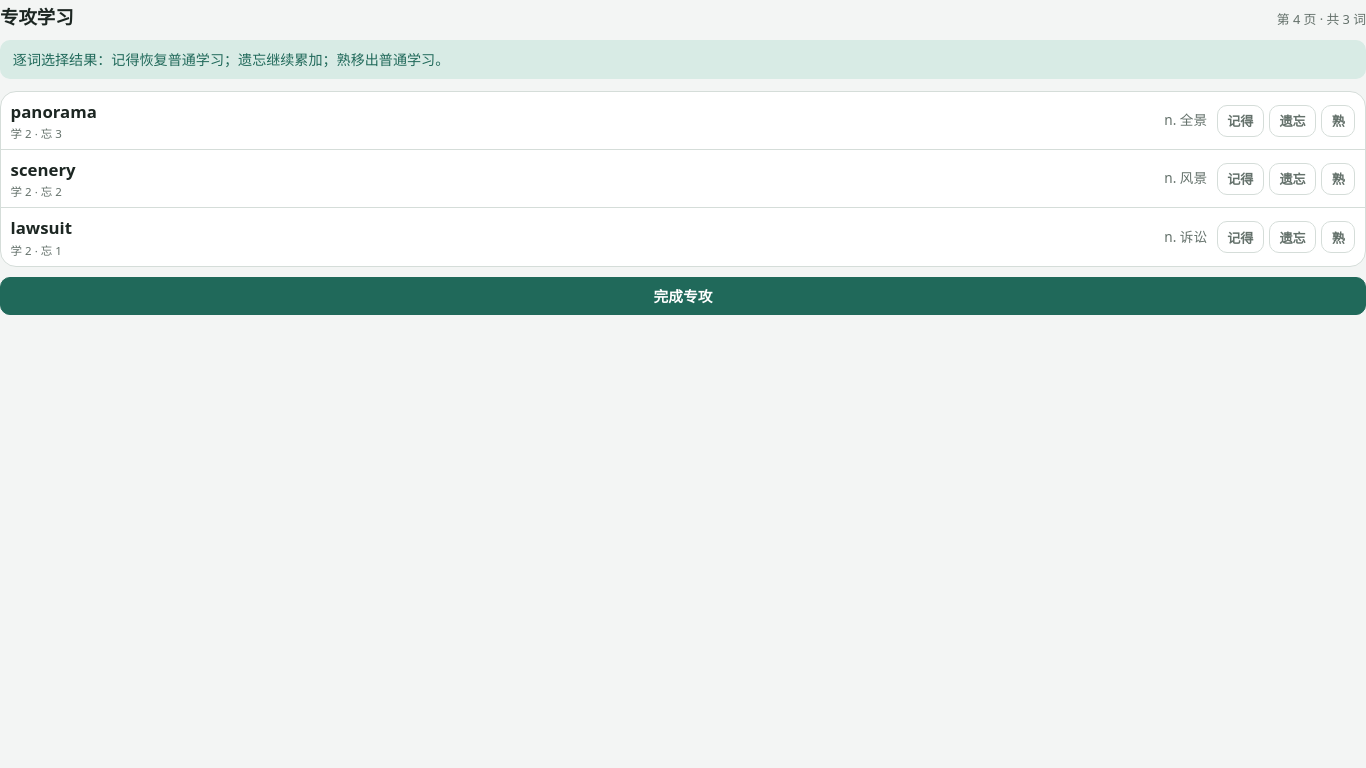
Scenario: 专攻学习页 › 未逐词选择完成结果前不能提交
The width and height of the screenshot is (1366, 768).
What coordinates should you click on to do the following:
click the button "记得" in the row of "panorama"
I would click on:
 (1240, 121)
Its box is [1217, 105, 1264, 137].
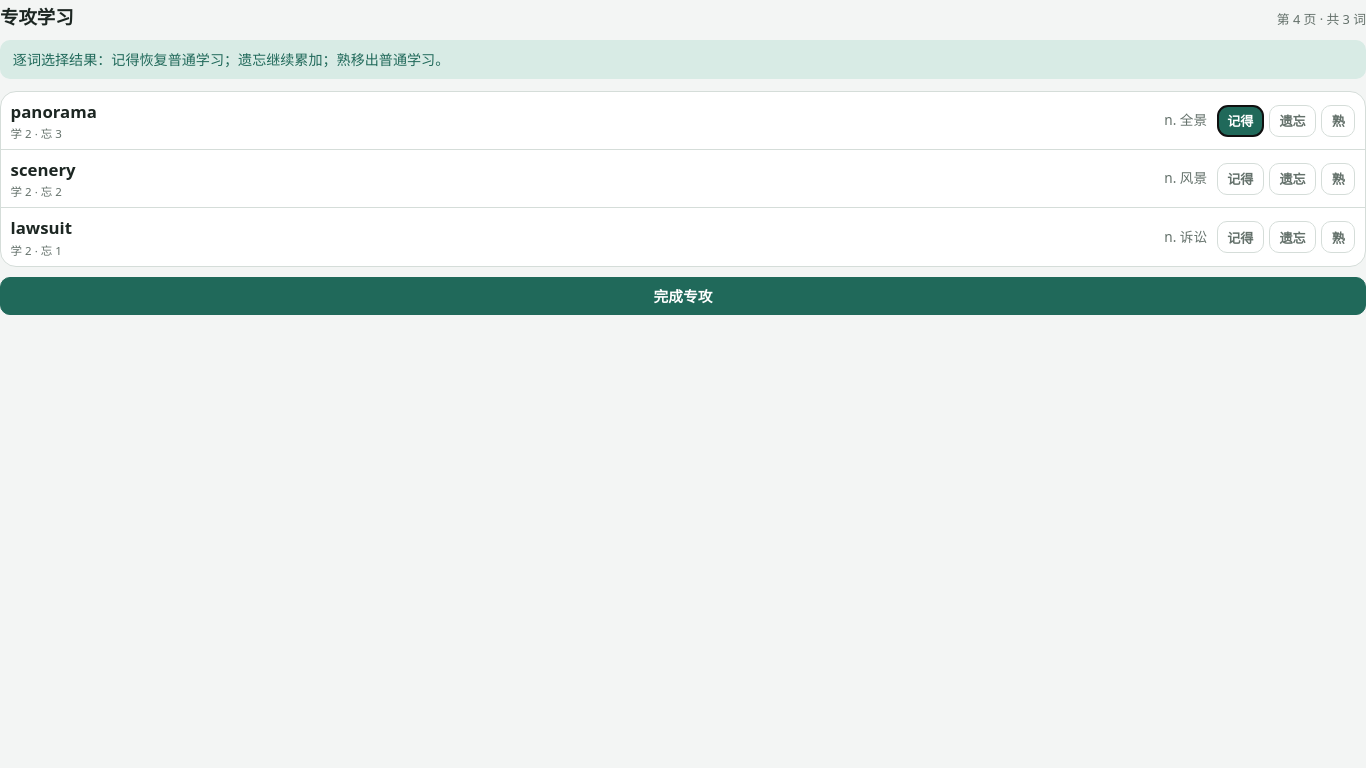
What coordinates should you click on to do the following:
click the button "完成专攻"
I would click on:
 (683, 296)
Its box is [0, 277, 1365, 315].
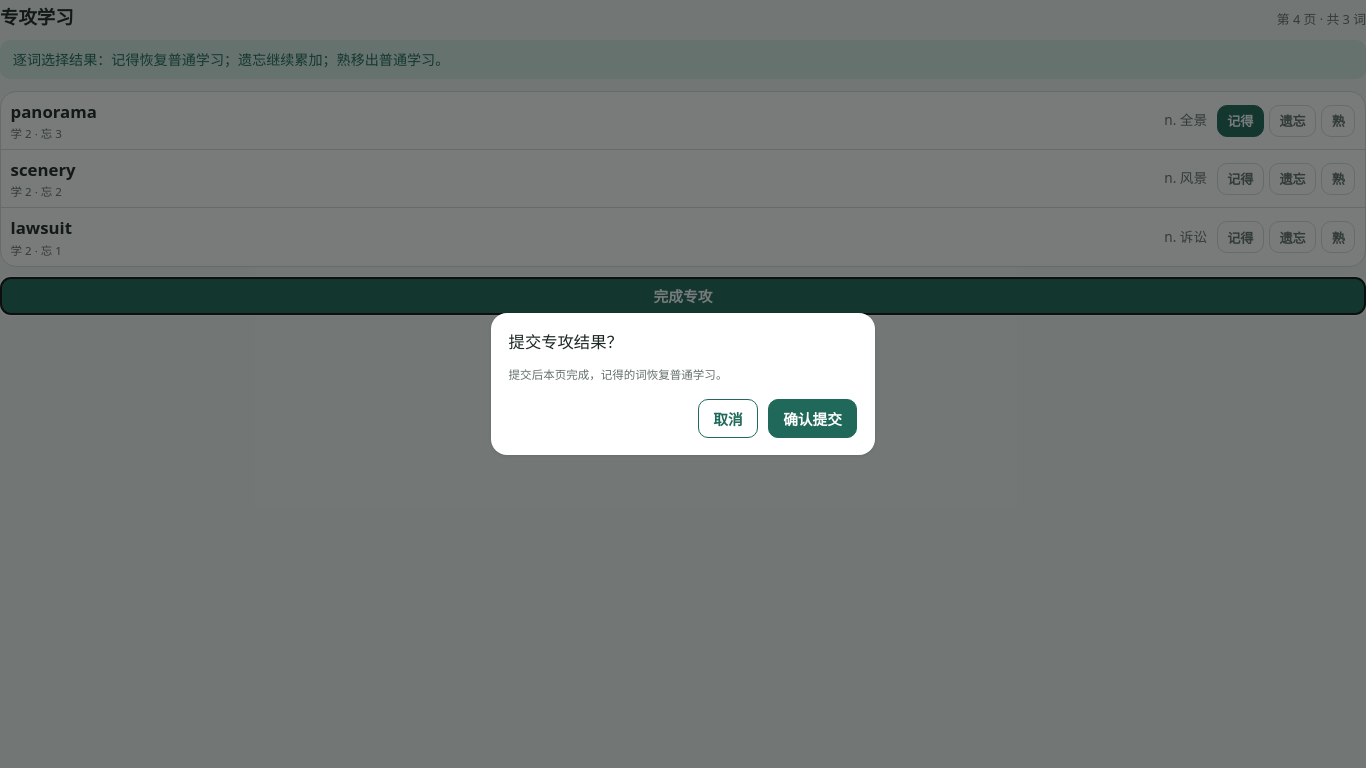
What coordinates should you click on to do the following:
click the button "确认提交"
I would click on:
 (813, 419)
Its box is [768, 399, 857, 438].
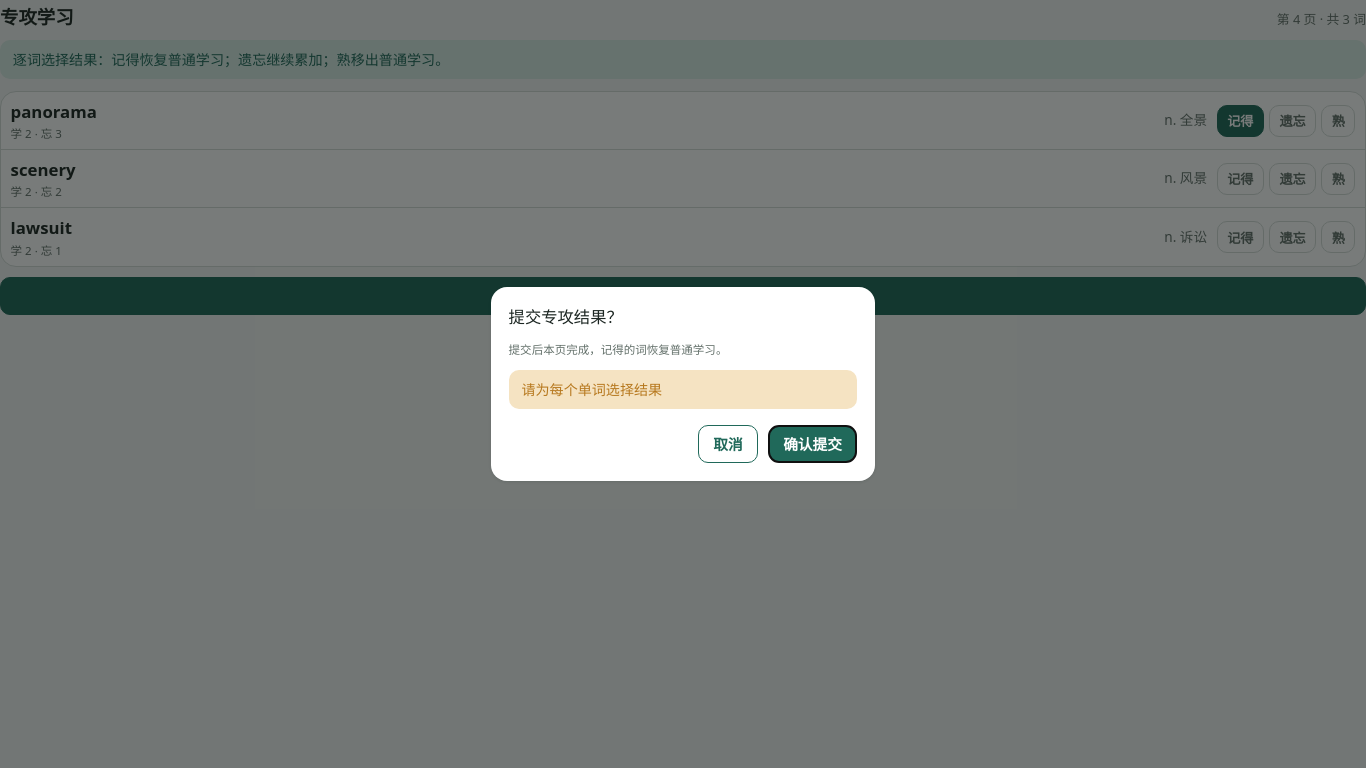
Result: the text "请为每个单词选择结果" is shown at [509, 370, 857, 408]
